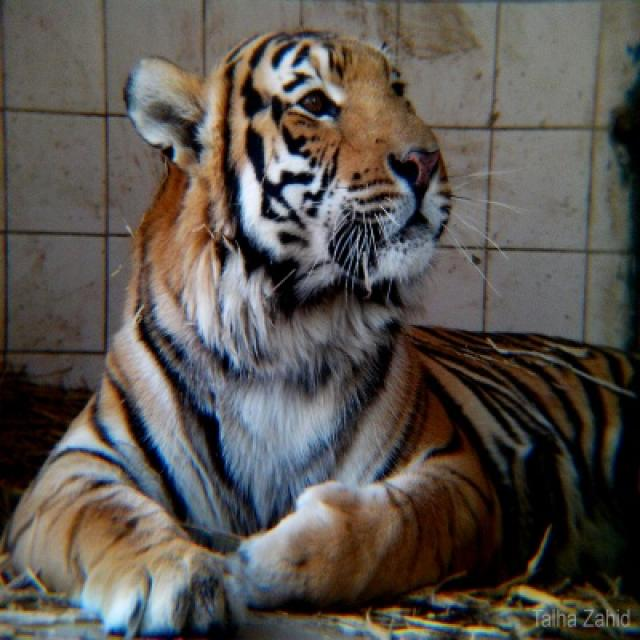Tiger: (2, 30, 638, 634)
